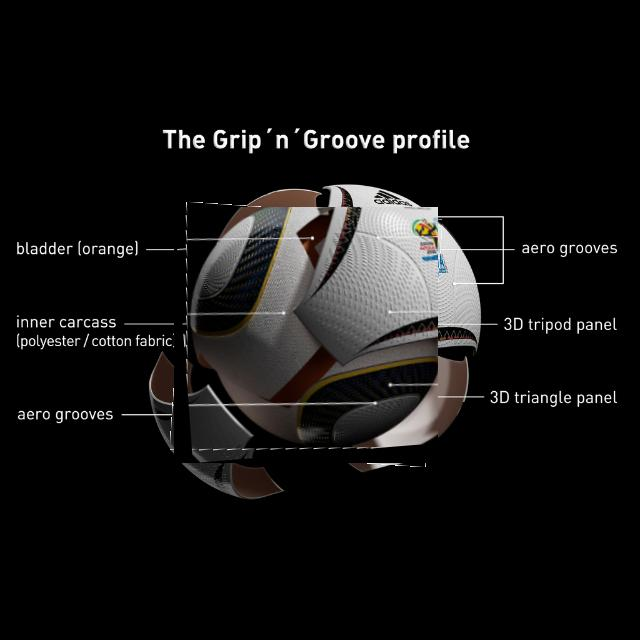Football: (174, 207, 438, 463)
